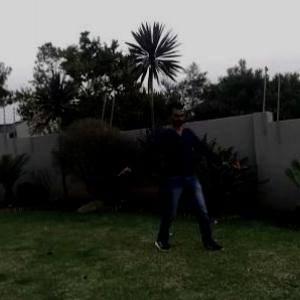land: (125, 109, 221, 231)
